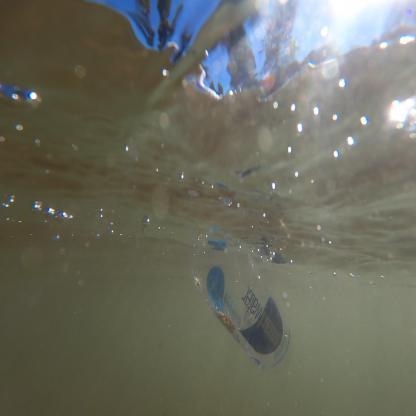Rác: (181, 202, 306, 401)
